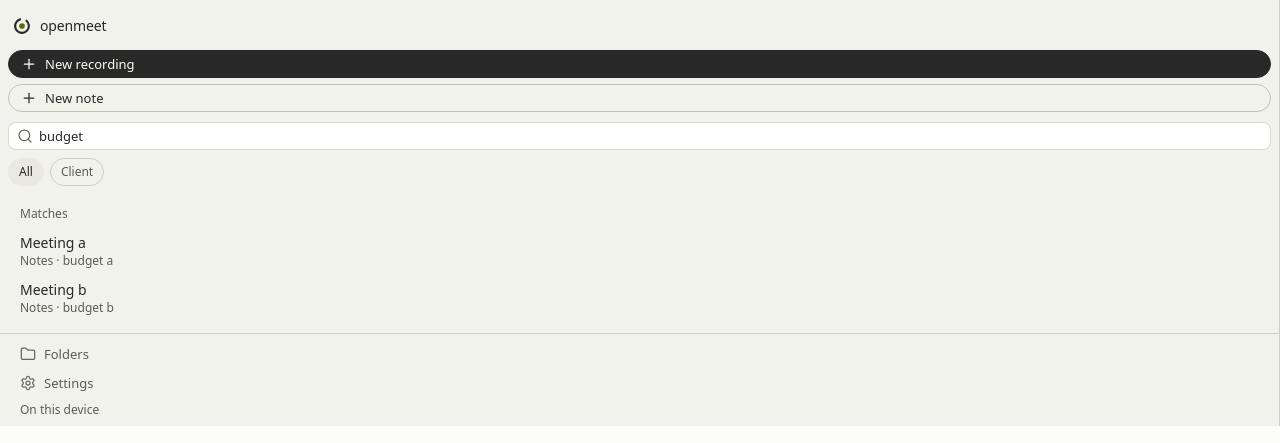
Test: filters meetings and full-text hits by tag
This screenshot has width=1280, height=443.
Expected: the text "Notes · budget b" is shown, x1=20 y1=299 x2=114 y2=316
Click the button "Client": point(77, 172) x1=50 y1=158 x2=104 y2=186
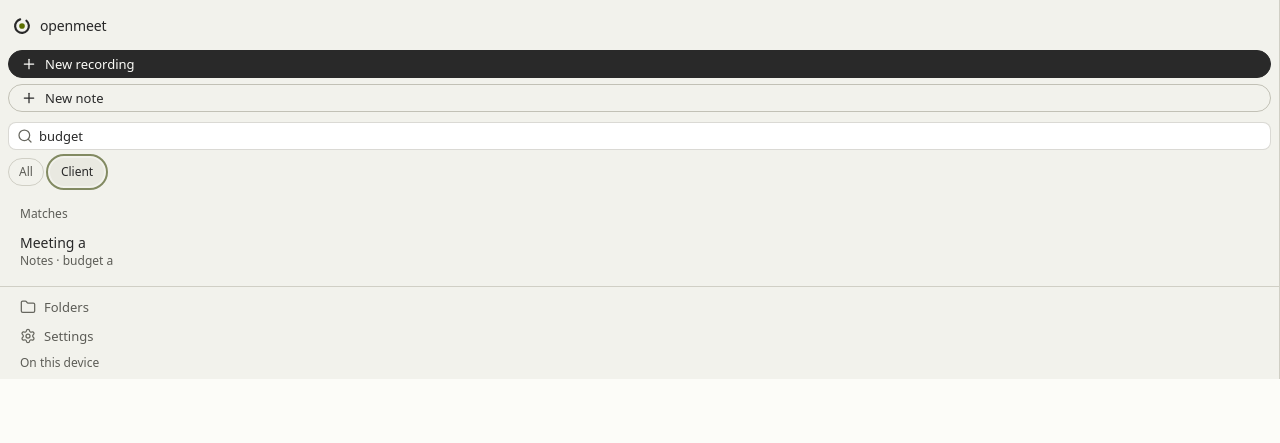
Expected: the text "Notes · budget a" is shown, x1=20 y1=252 x2=113 y2=269
Result: the button "Notes · budget b" is gone
Result: the button "Meeting b" is gone
